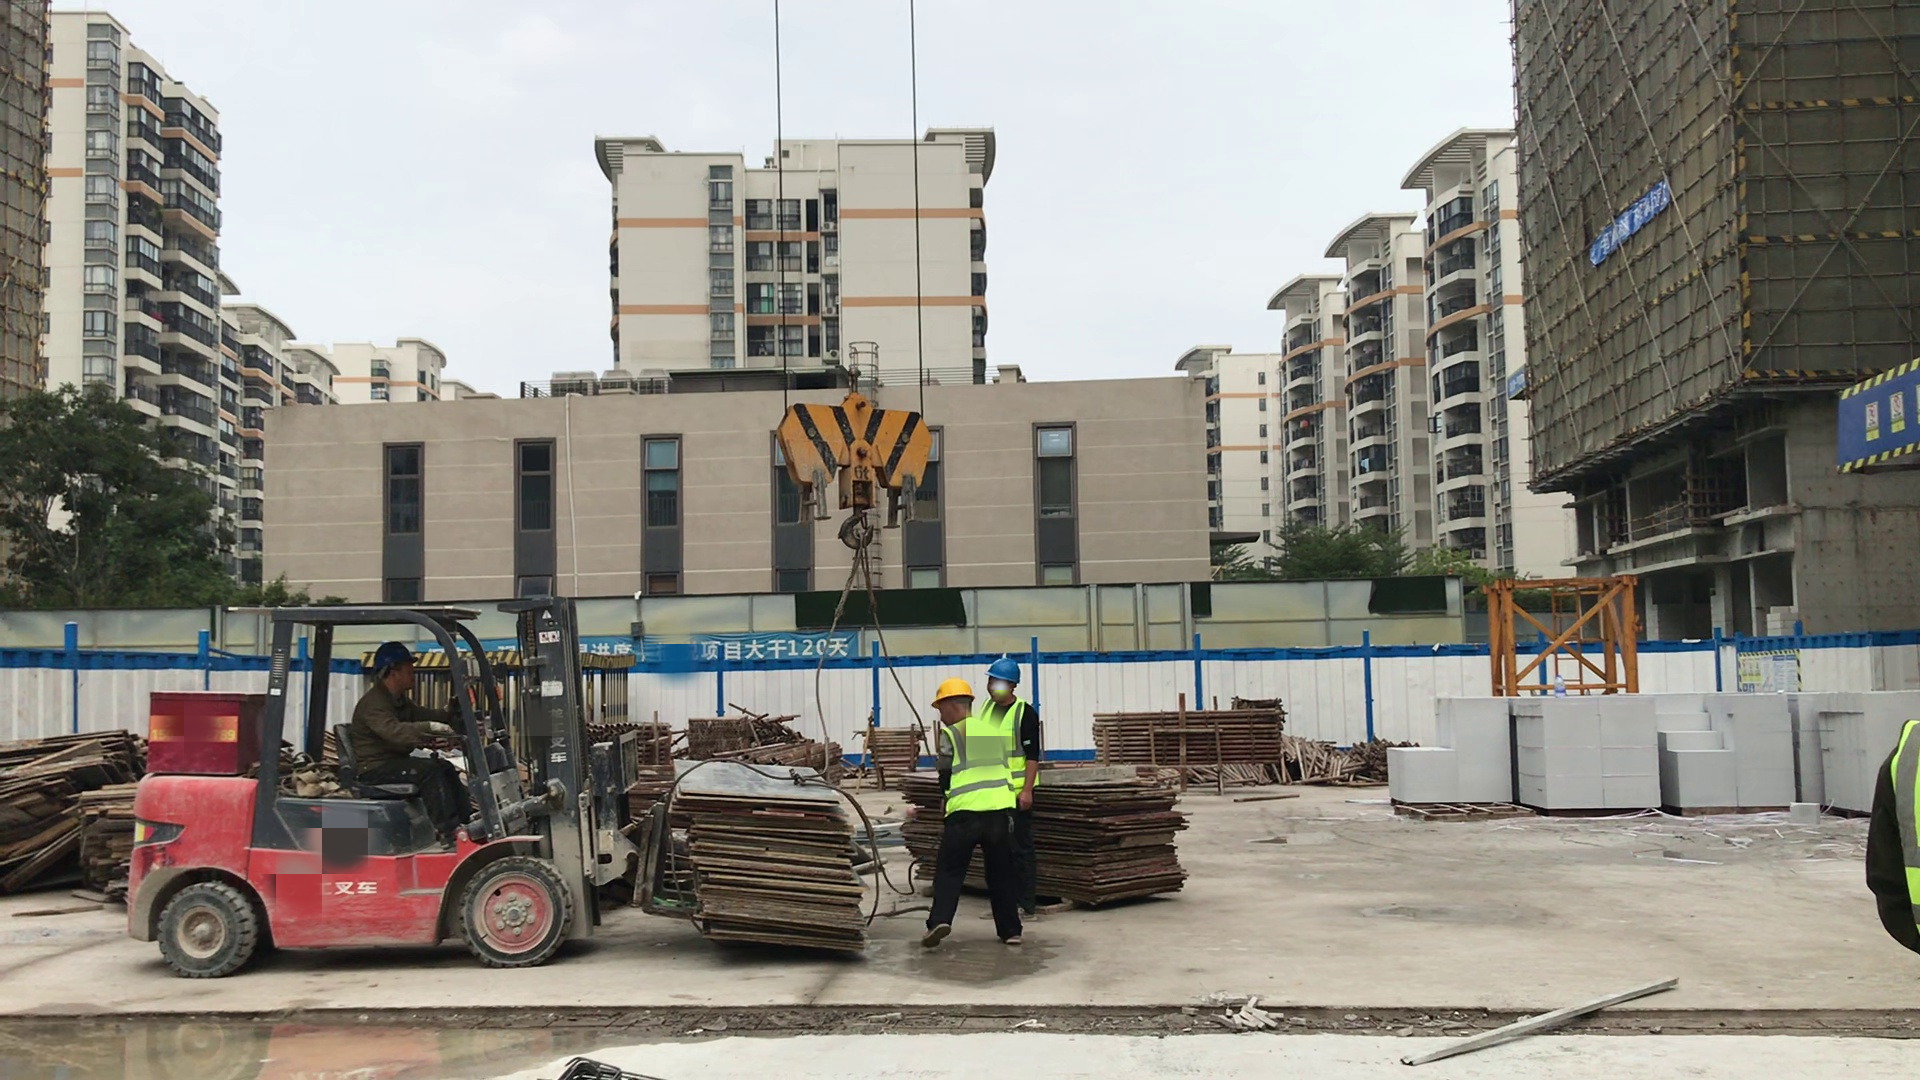board: (675, 757, 866, 953), (1032, 780, 1179, 911)
brick: (1515, 695, 1662, 811), (1662, 692, 1794, 806), (1385, 695, 1506, 811), (1804, 692, 1920, 814)
helmet: (931, 676, 974, 707), (370, 642, 418, 668), (987, 652, 1020, 684)
hook: (779, 392, 931, 546)
person: (917, 678, 1026, 951), (350, 640, 470, 841), (980, 656, 1042, 923)
slogan: (1589, 177, 1665, 258), (700, 633, 855, 664)
vest: (943, 720, 1012, 816), (983, 699, 1029, 796)
